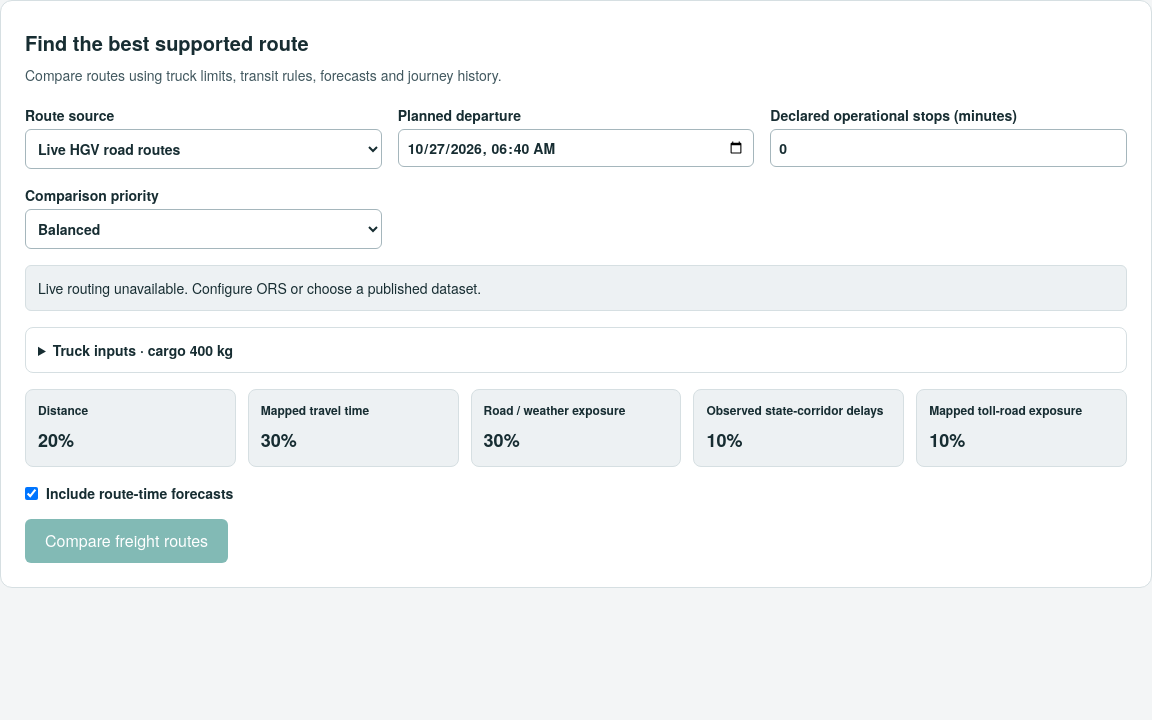
Test: state-wise freight route comparison › requires explicit retained mode when live routing is unavailable and validates custom weights
Expected: the button "Compare freight routes" is disabled, x1=25 y1=519 x2=228 y2=563
Step 1. Select "Published retained topology" in the dropdown labelled "Route source" → x=203, y=149, box x1=25 y1=129 x2=382 y2=169
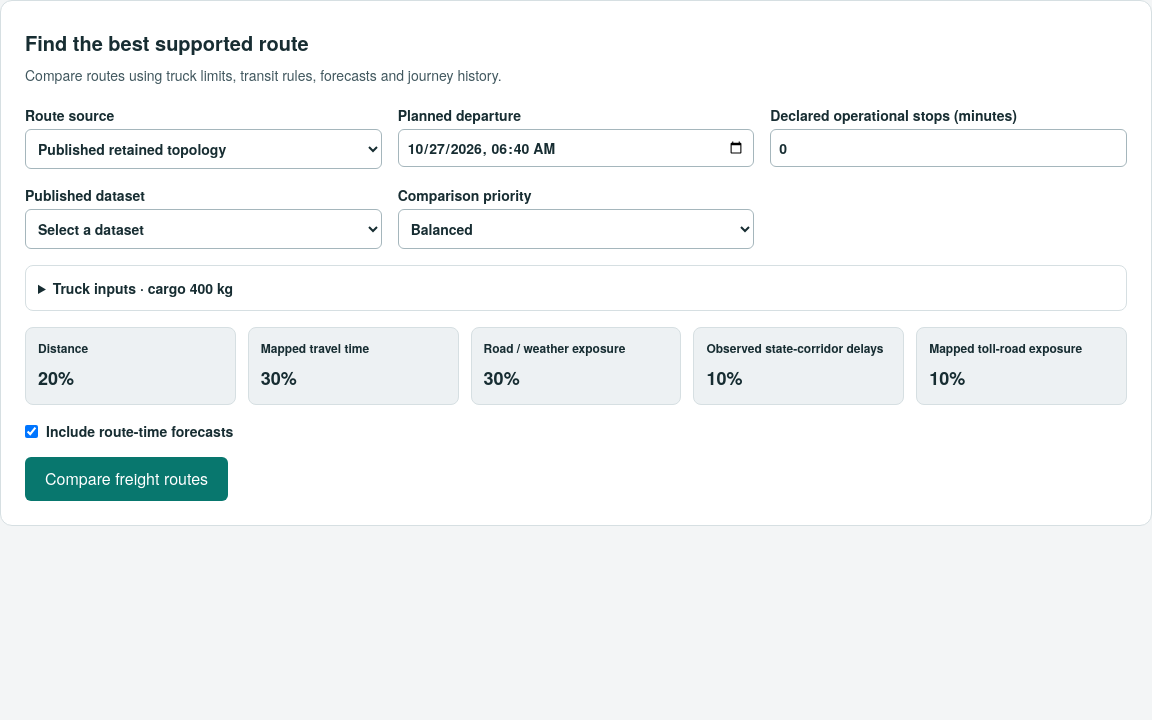
Result: the dropdown named "Retained route dataset" is shown at x1=25 y1=209 x2=382 y2=249
Step 2. Select "Custom" in the dropdown named "Route comparison priority" → x=576, y=229, box x1=398 y1=209 x2=754 y2=249
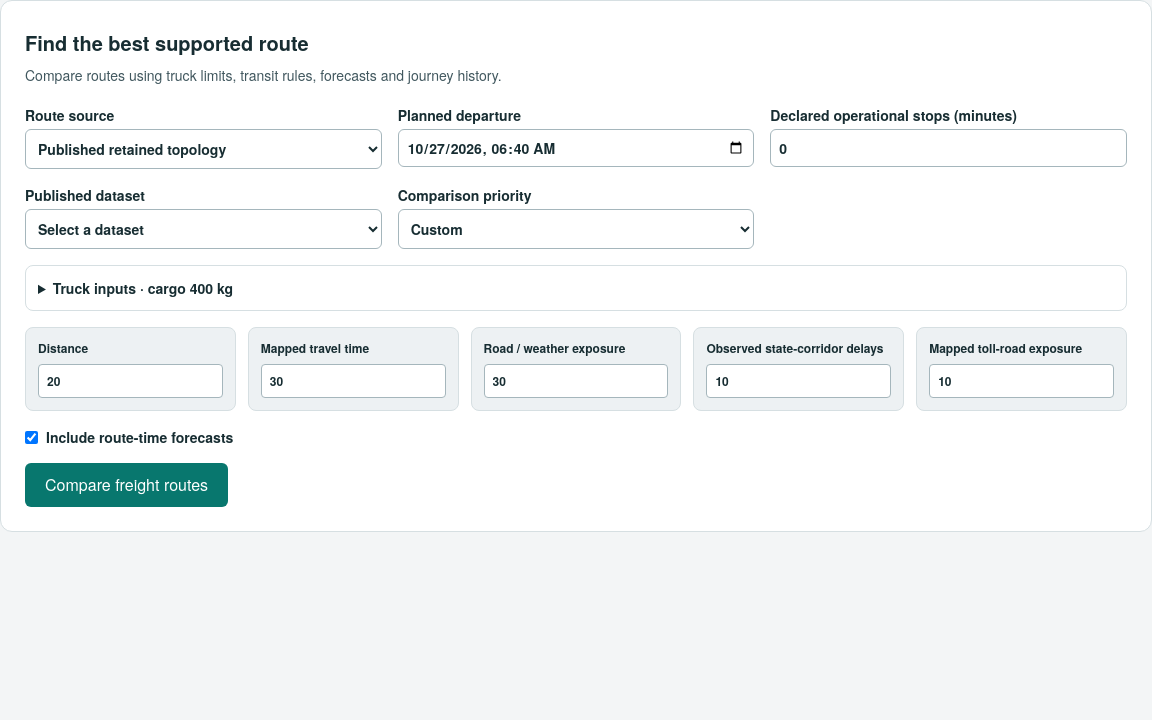
Step 3. Replace the text in the number field named "Distance weight percent" with "99" → x=130, y=381, box x1=38 y1=364 x2=223 y2=398
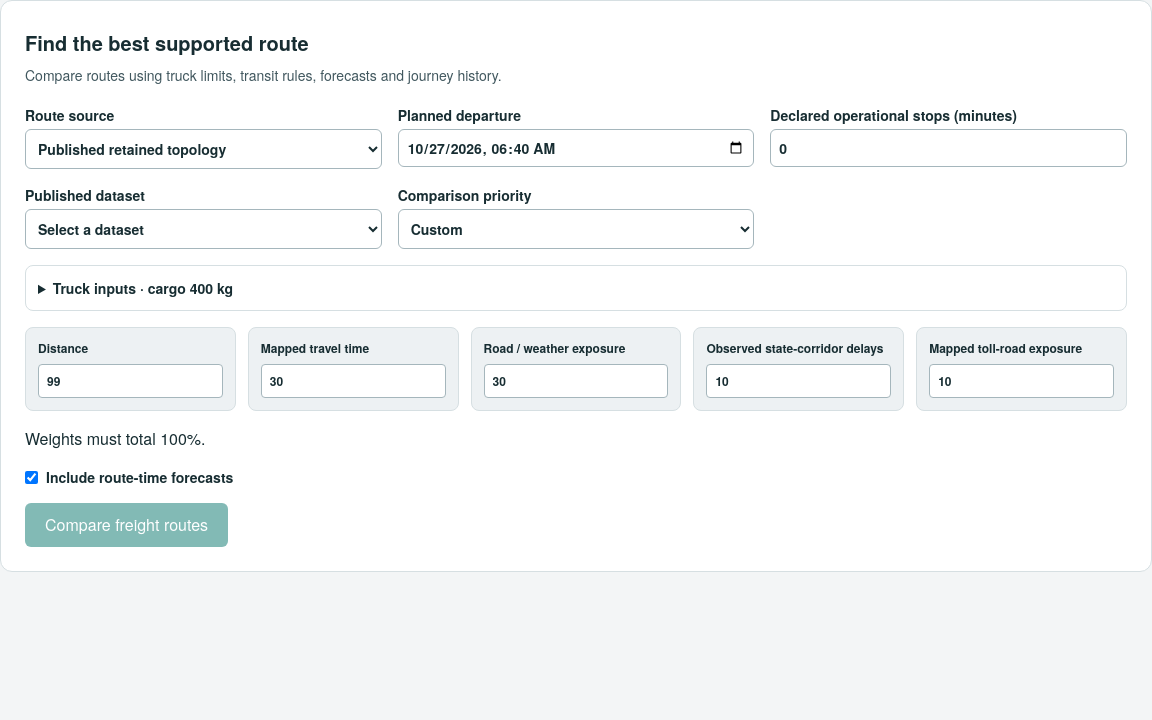
Result: the message shows "Weights must total 100%" at x1=25 y1=427 x2=206 y2=450
Result: the button "Compare freight routes" is disabled at x1=25 y1=503 x2=228 y2=547
